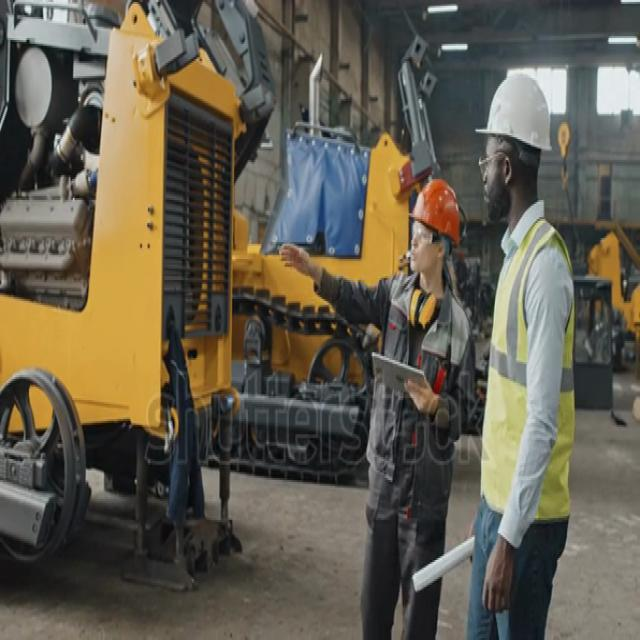Ear-Protection: (407, 279, 439, 336)
Glasses: (406, 221, 446, 252), (476, 149, 518, 169)
Helmet: (474, 70, 553, 152), (410, 176, 464, 248)
